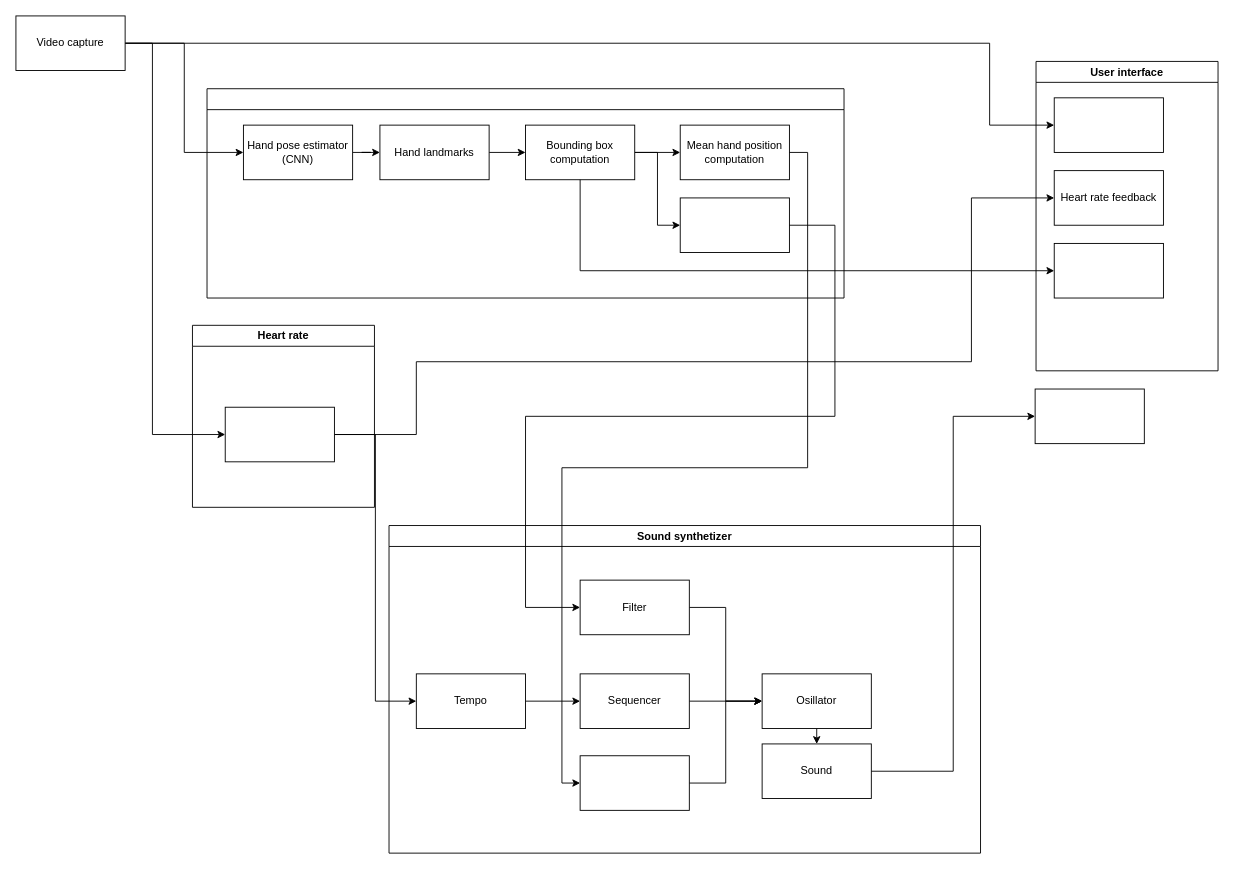
Some shapes in this 1234 by 869 pixel diagram are drawn without their labels. The box of each missing label's shape, as (x1, y1, x2, y2) in pixels:
Frequency: (579, 755, 689, 810)
Hand area computation: (679, 197, 789, 253)
Hand bouding box: (1053, 243, 1163, 298)
Heart rate estimator: (224, 406, 334, 462)
Pose detection: (206, 88, 844, 298)
Speaker: (1034, 388, 1144, 444)
Video feedback: (1053, 97, 1163, 152)
